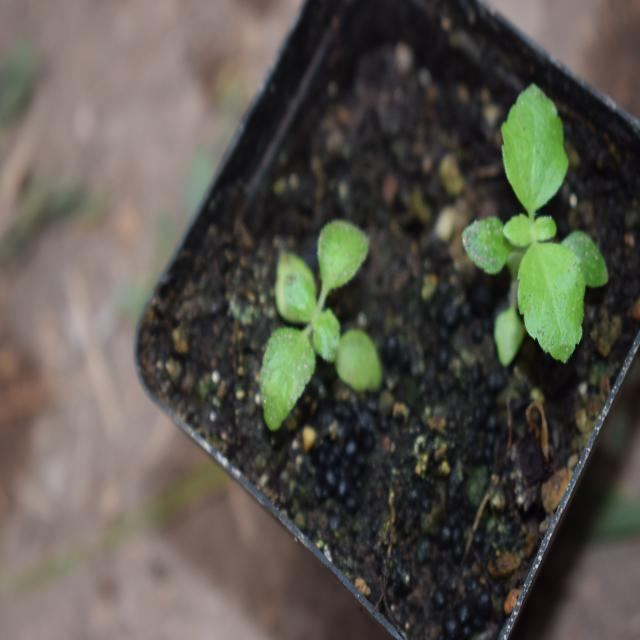billygoat_weed: (467, 75, 614, 363), (253, 194, 380, 426)
